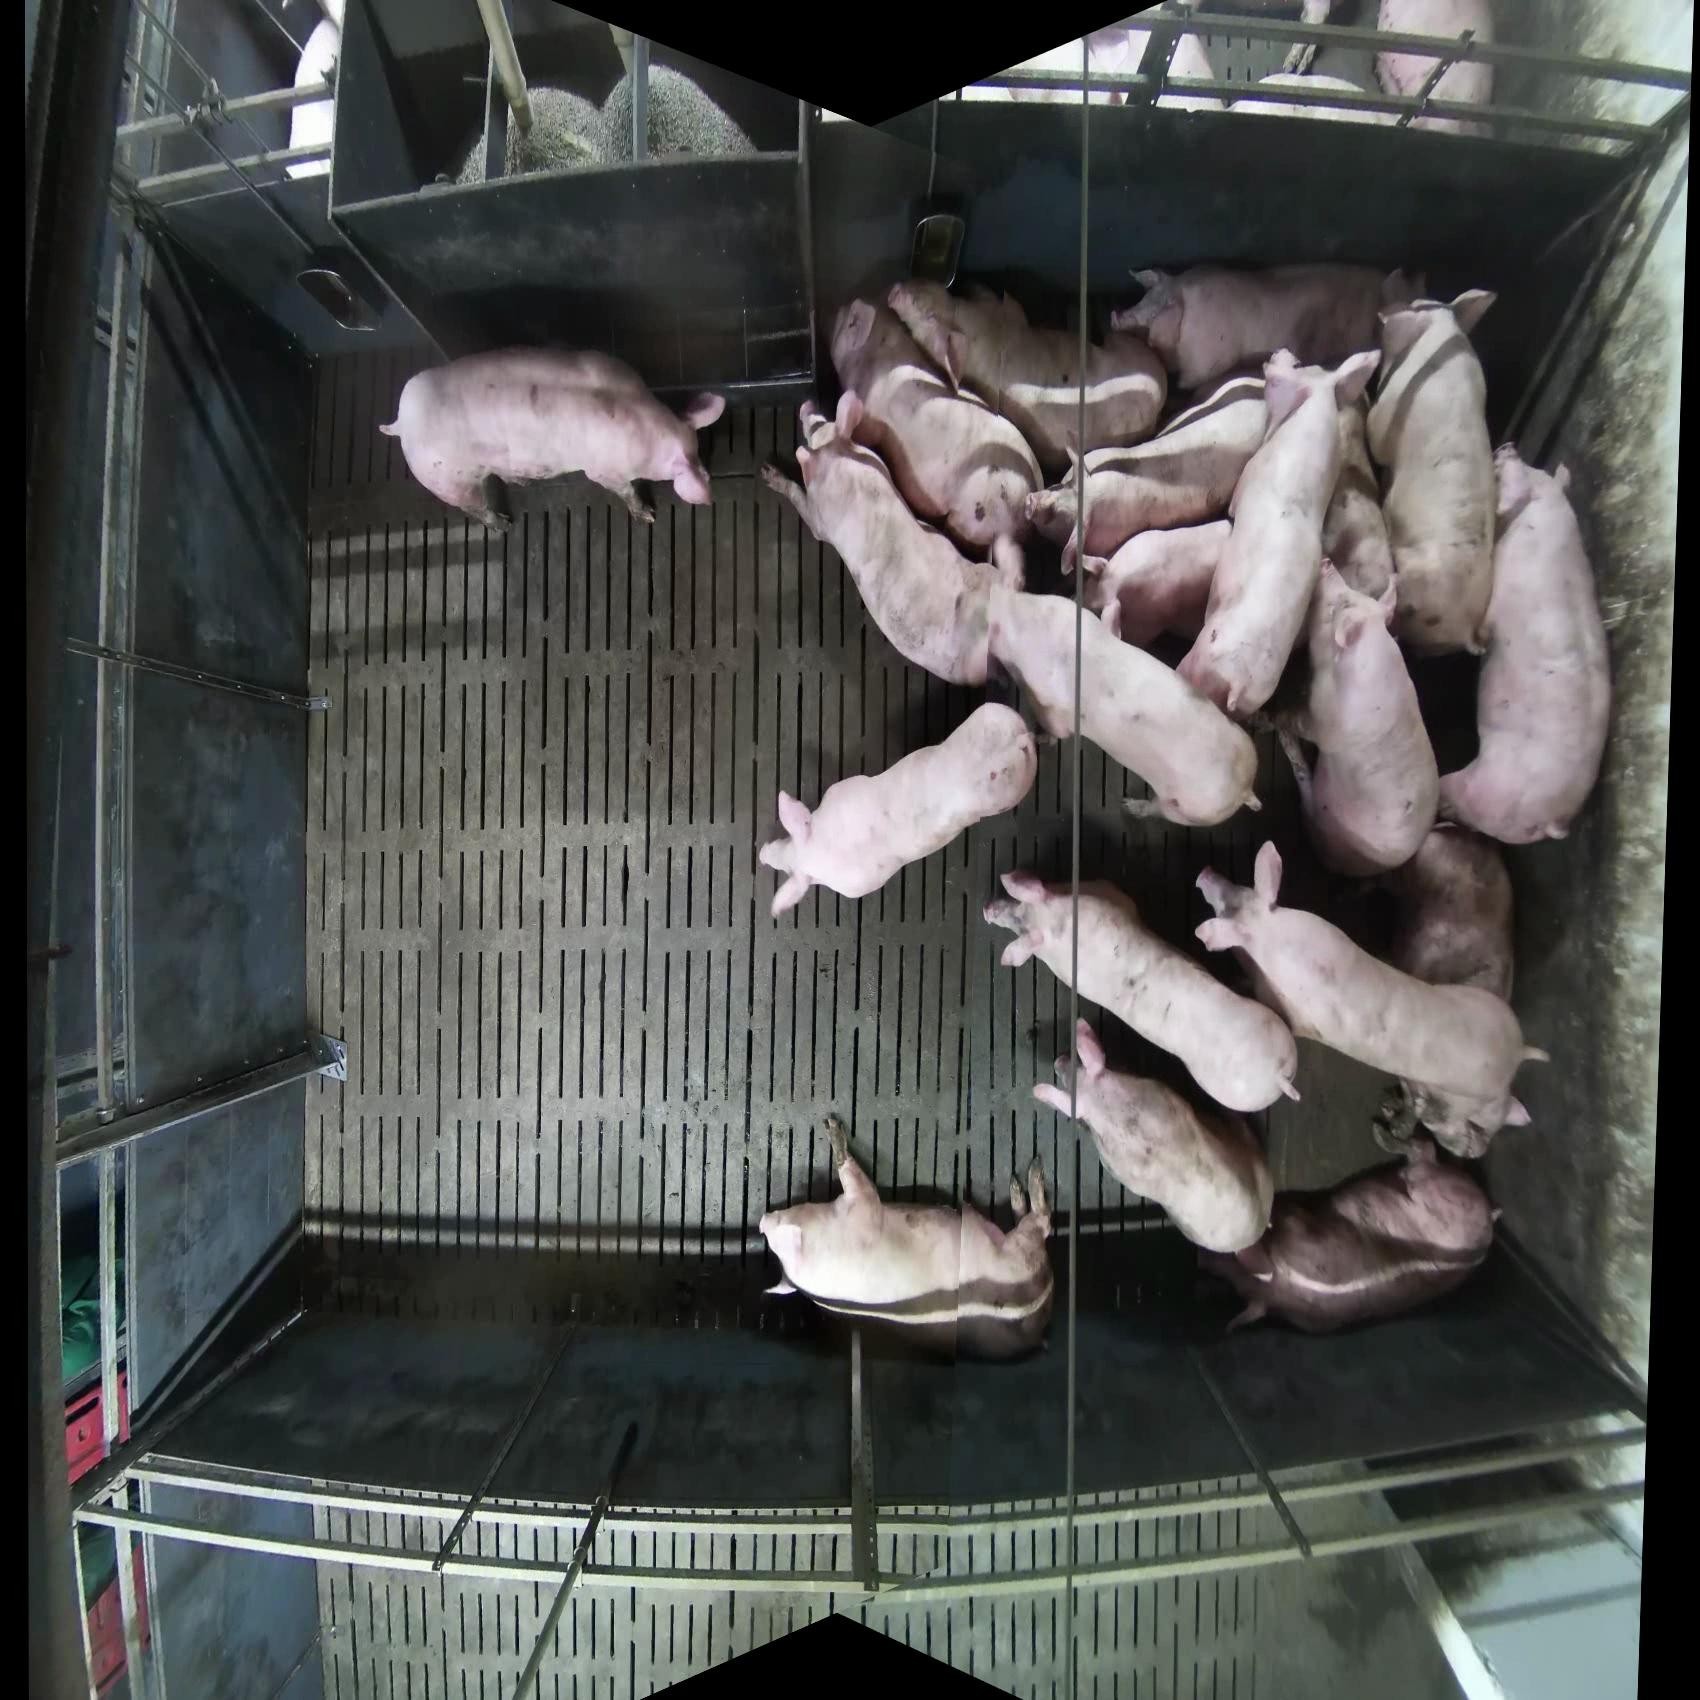pig: (1192, 839, 1551, 1161), (982, 869, 1303, 1115), (1174, 346, 1382, 719), (760, 1112, 1059, 1364), (758, 395, 1006, 688), (1435, 445, 1614, 847), (982, 581, 1264, 830), (377, 344, 727, 539), (828, 297, 1045, 590), (757, 701, 1038, 920), (1196, 1136, 1502, 1337), (1031, 1015, 1277, 1256), (884, 274, 1171, 473), (1277, 554, 1442, 878), (1024, 369, 1273, 581), (1365, 286, 1501, 659), (1108, 258, 1428, 394), (1376, 822, 1516, 1004), (1080, 517, 1230, 649), (1375, 2, 1498, 139)
